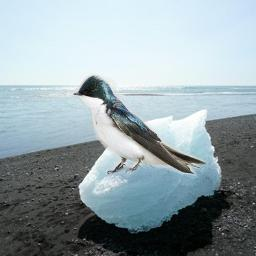Swallow: (71, 73, 208, 178)
